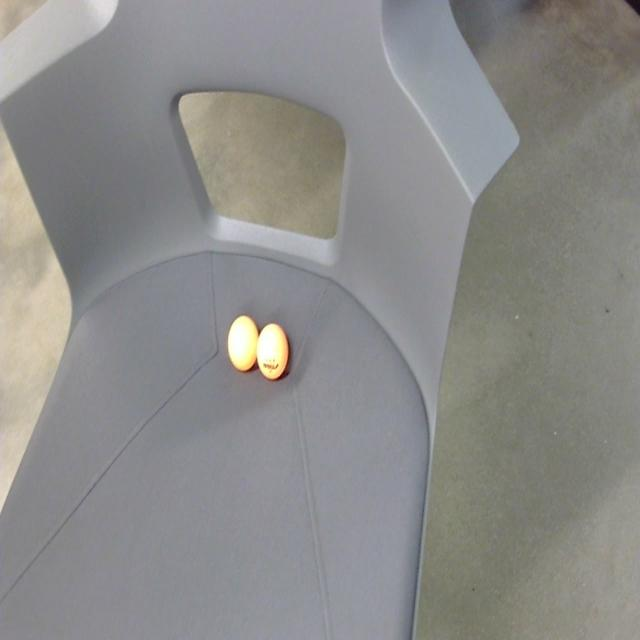ball: (226, 311, 260, 374), (256, 320, 290, 382)
